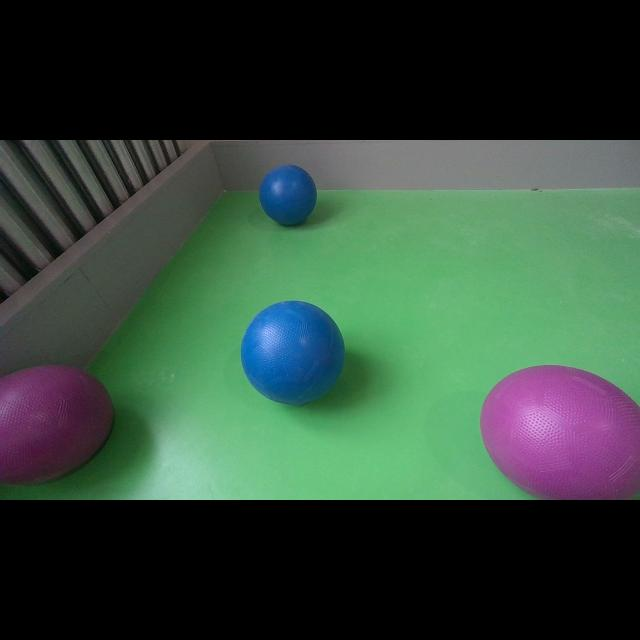B: (240, 300, 346, 406), (259, 164, 317, 226)
P: (480, 364, 640, 500), (0, 366, 150, 490)
